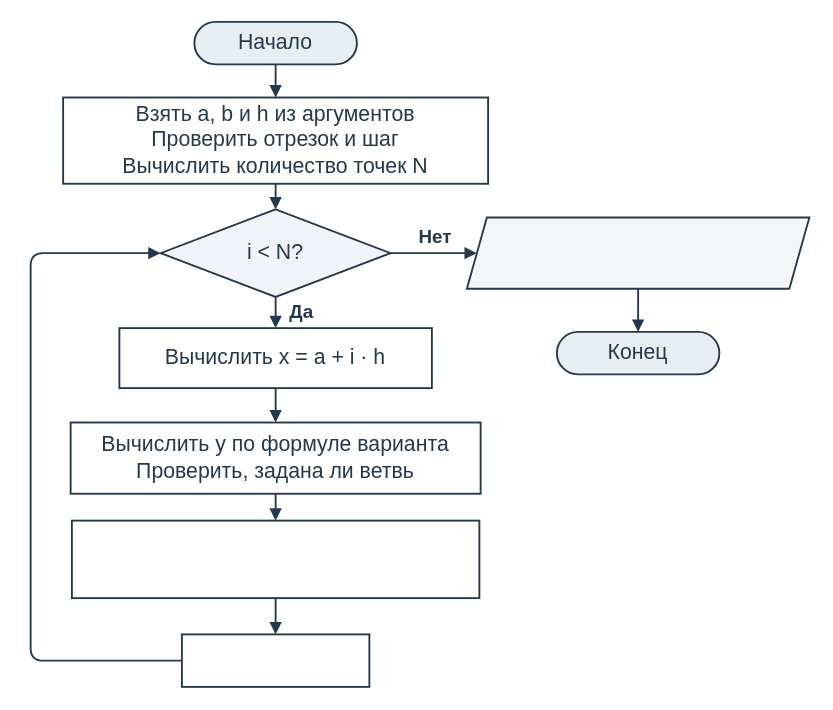
Image size: 833x710. Some labels were removed from this diagram. Each missing label, with the box of its shape:
i = i + 1: (180, 633, 370, 687)
Вычислить итог по строкам Вывести и сохранить таблицу: (465, 216, 810, 289)
Добавить пару (x, y) к строкам: (70, 519, 480, 598)
